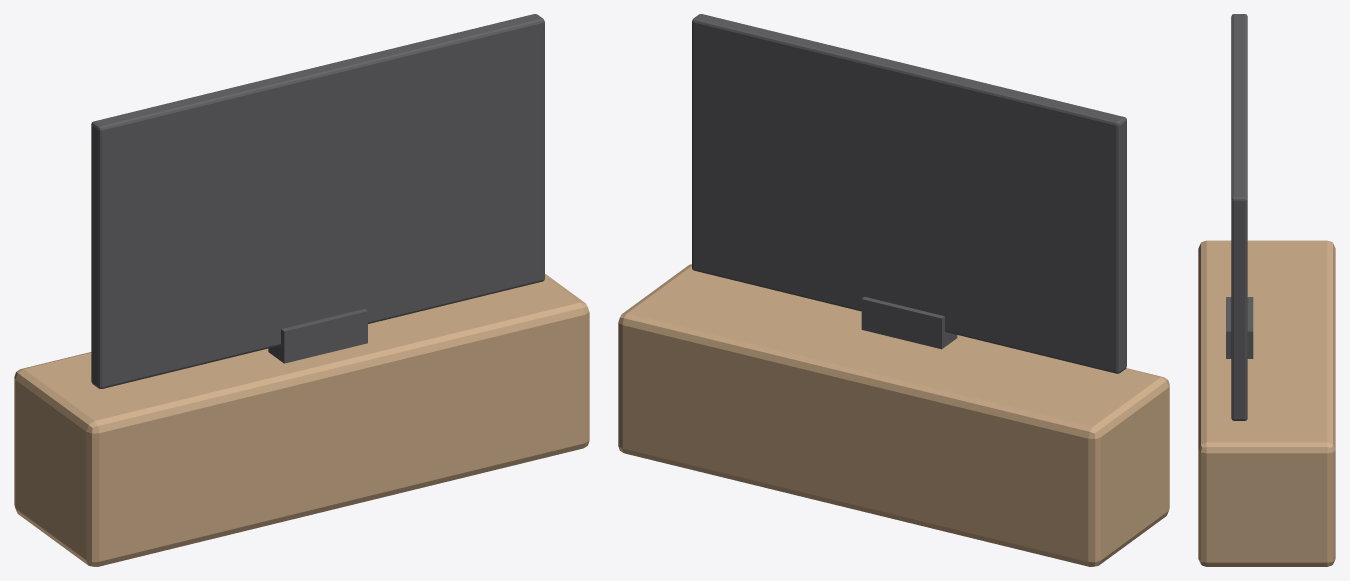
File: tv_stand.glb
The picture shows the model from 3 angles, left to right: view 1: azimuth 30°, elevation 25°; view 2: azimuth 150°, elevation 25°; view 3: azimuth 270°, elevation 25°; orthographic projection. The views are drawn at different scales.
Visible parts, largest first — view 1: TVStand; view 2: TVStand; view 3: TVStand.
Boxes of the visible parts, x1,y1,x2,y2 form: TVStand: (14, 14, 589, 566); TVStand: (618, 14, 1169, 566); TVStand: (1198, 14, 1335, 566).
Size of the model in its own units: 1.8 by 1.45 by 0.5.
